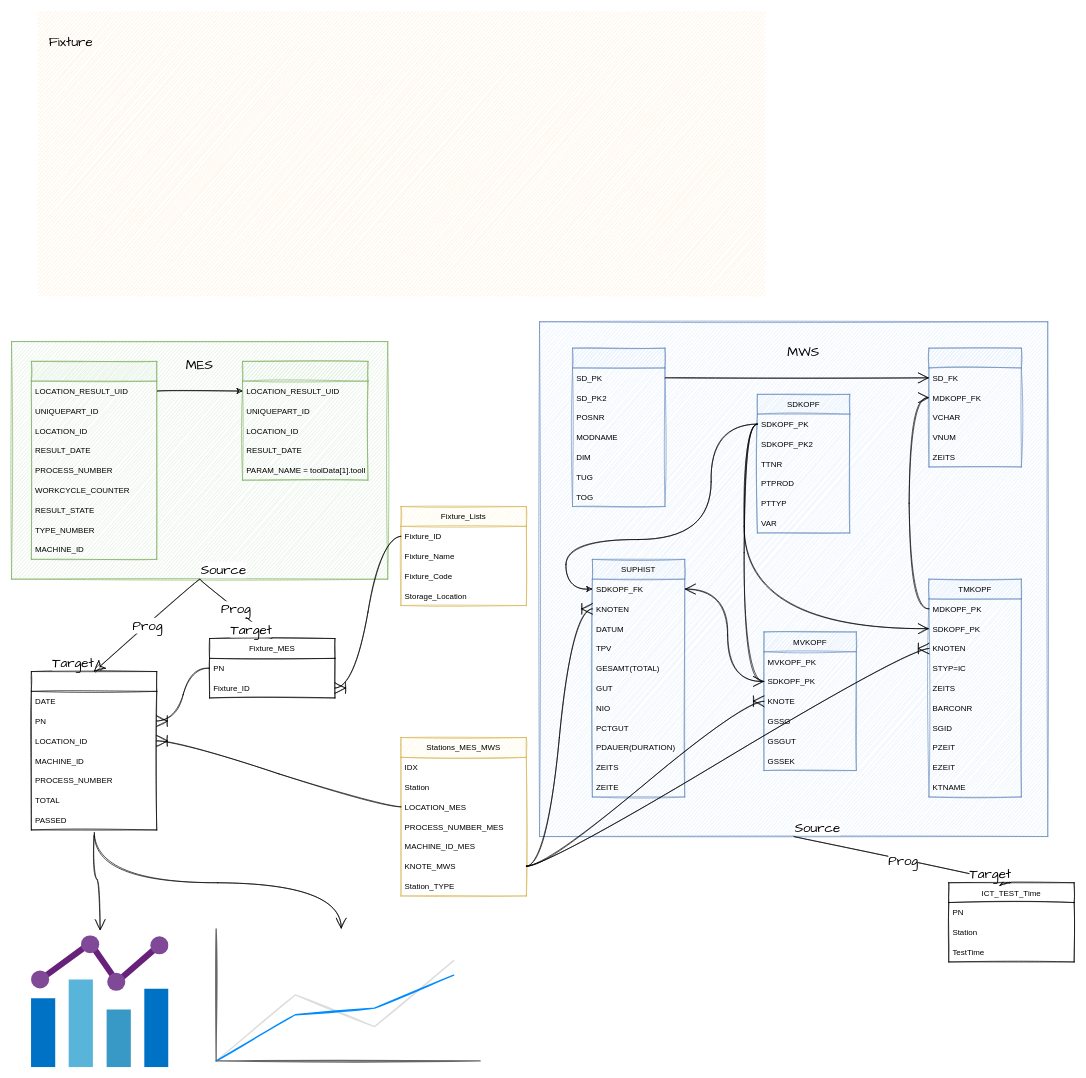
This 1086x1078 diagram has some shape labels left out. The box of each missing label's shape, as (x1, y1, x2, y2) in pixels:
MES_LOCATION_RESULTS: (31, 361, 157, 559)
MES_RESULTS: (242, 361, 368, 480)
Output: (31, 671, 157, 830)
SD: (572, 347, 665, 507)
TMD: (928, 347, 1021, 467)
